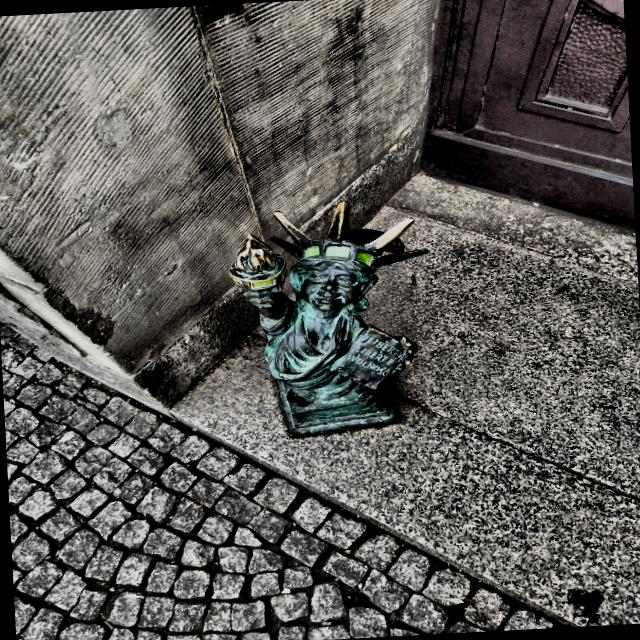LadyWolnosc: (230, 202, 428, 435)
